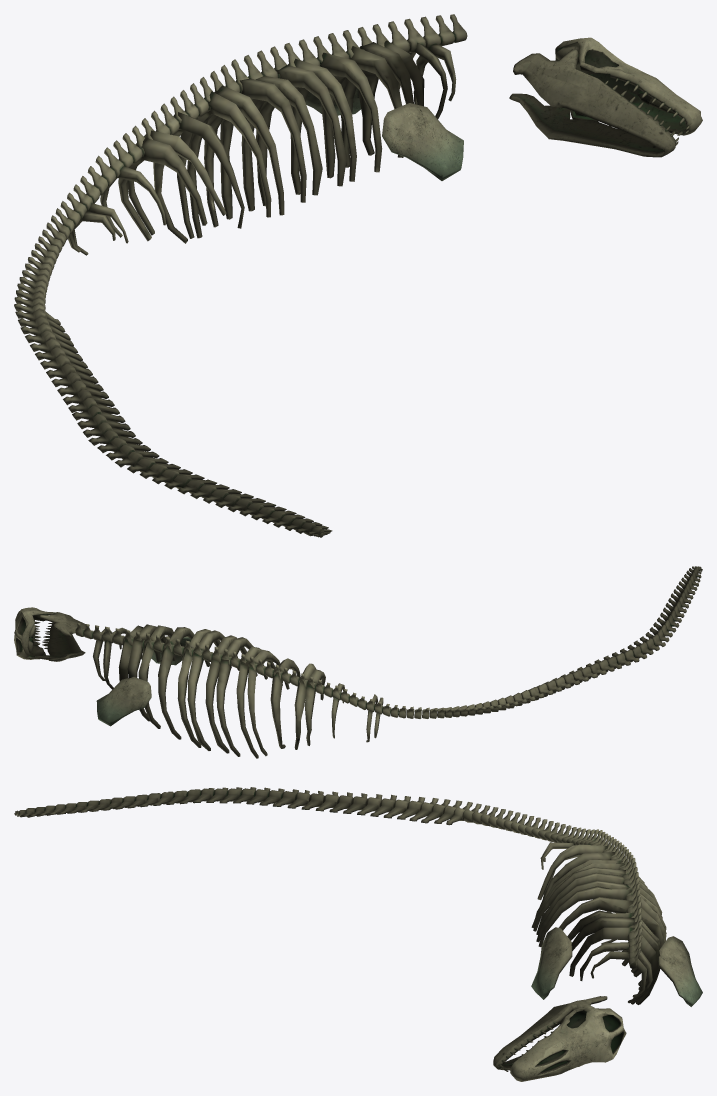
File: Skeleton.fbx
3 renders of one model, top to bottom at view 1: azimuth 30°, elevation 25°; view 2: azimuth 150°, elevation 25°; view 3: azimuth 270°, elevation 25°, orthographic. The views are drawn at different scales.
Parts seen in each view (by area): view 1: ribcage, spine_shrink, skull_bottom, skull_top, shoulder; view 2: ribcage, spine_shrink, shoulder, skull_bottom, skull_top; view 3: spine_shrink, ribcage, skull_top, shoulder, skull_bottom.
Part boxes in pixels (left/top/right/bottom): ribcage: left=68, top=40, right=456, bottom=255; spine_shrink: left=14, top=14, right=467, bottom=537; skull_bottom: left=509, top=49, right=675, bottom=157; skull_top: left=555, top=37, right=702, bottom=135; shoulder: left=305, top=88, right=463, bottom=180; ribcage: left=93, top=624, right=383, bottom=758; spine_shrink: left=75, top=566, right=702, bottom=718; shoulder: left=96, top=636, right=191, bottom=726; skull_bottom: left=34, top=612, right=85, bottom=661; skull_top: left=14, top=607, right=52, bottom=659; spine_shrink: left=14, top=787, right=642, bottom=968; ribcage: left=531, top=842, right=666, bottom=1004; skull_top: left=510, top=1007, right=626, bottom=1081; shoulder: left=531, top=927, right=702, bottom=1006; skull_bottom: left=493, top=996, right=607, bottom=1070.
Bounding box in the file's own units: 2133 × 425 × 2130.
